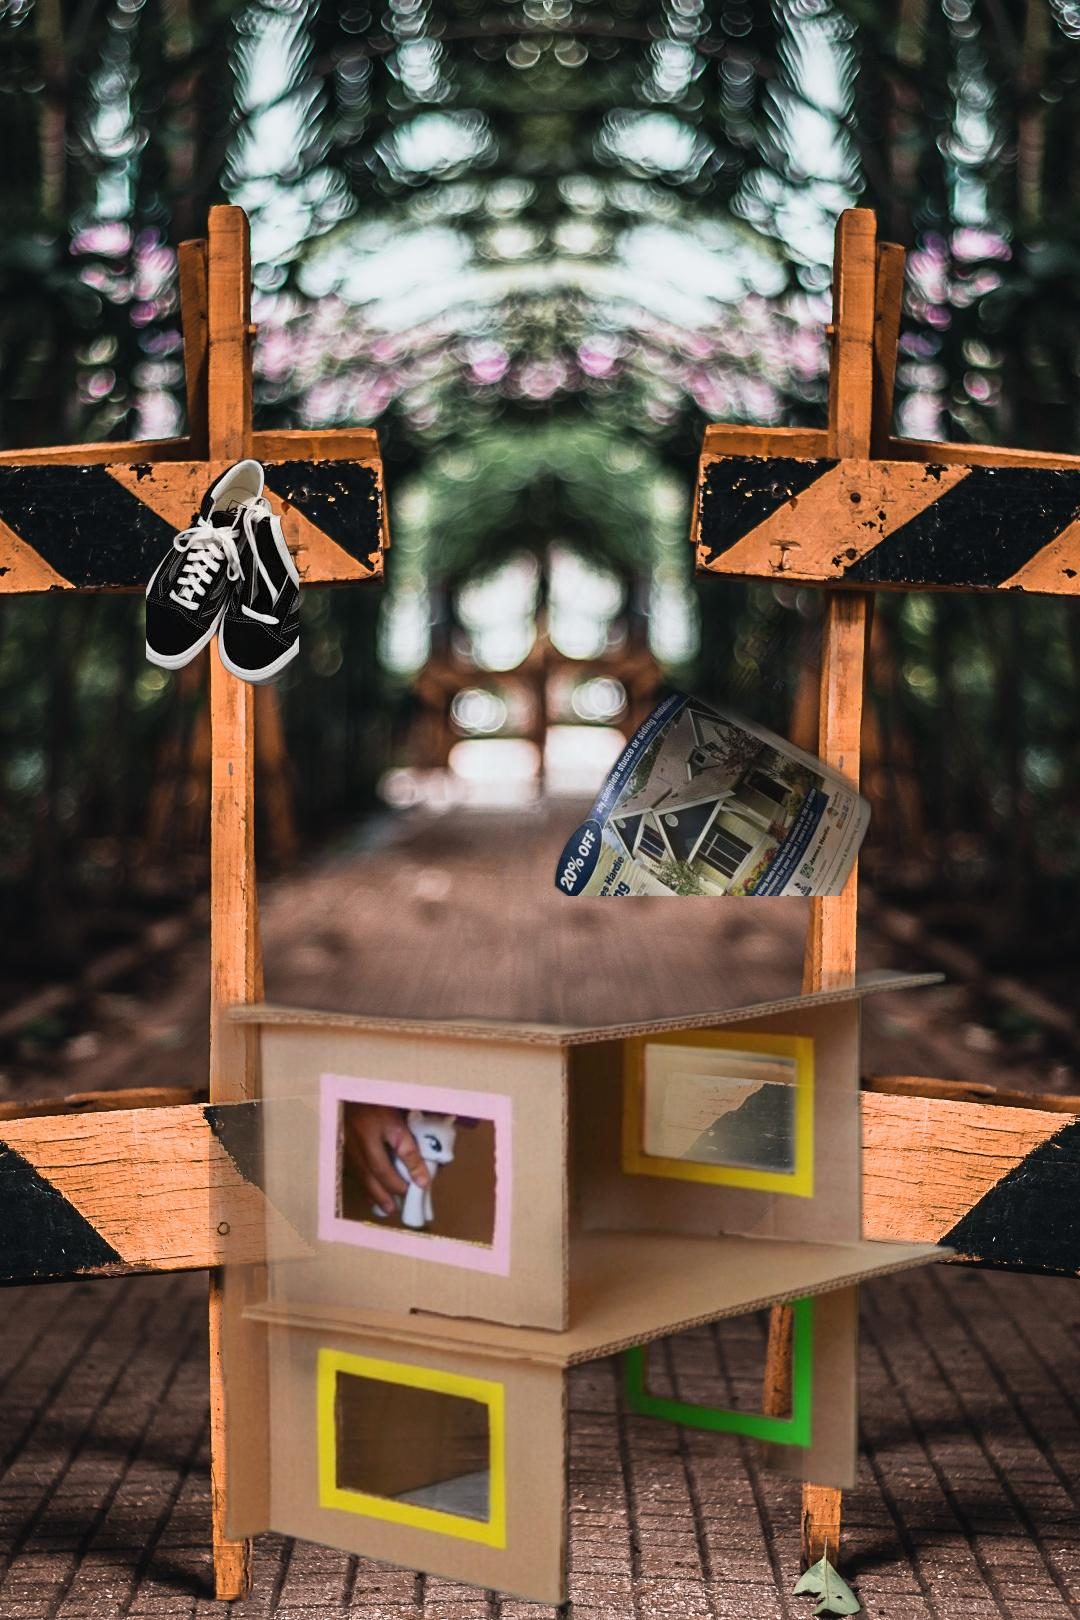paper: (482, 512, 994, 896)
shoes: (146, 454, 299, 688)
trashbox-cardboard: (209, 803, 963, 1620)
